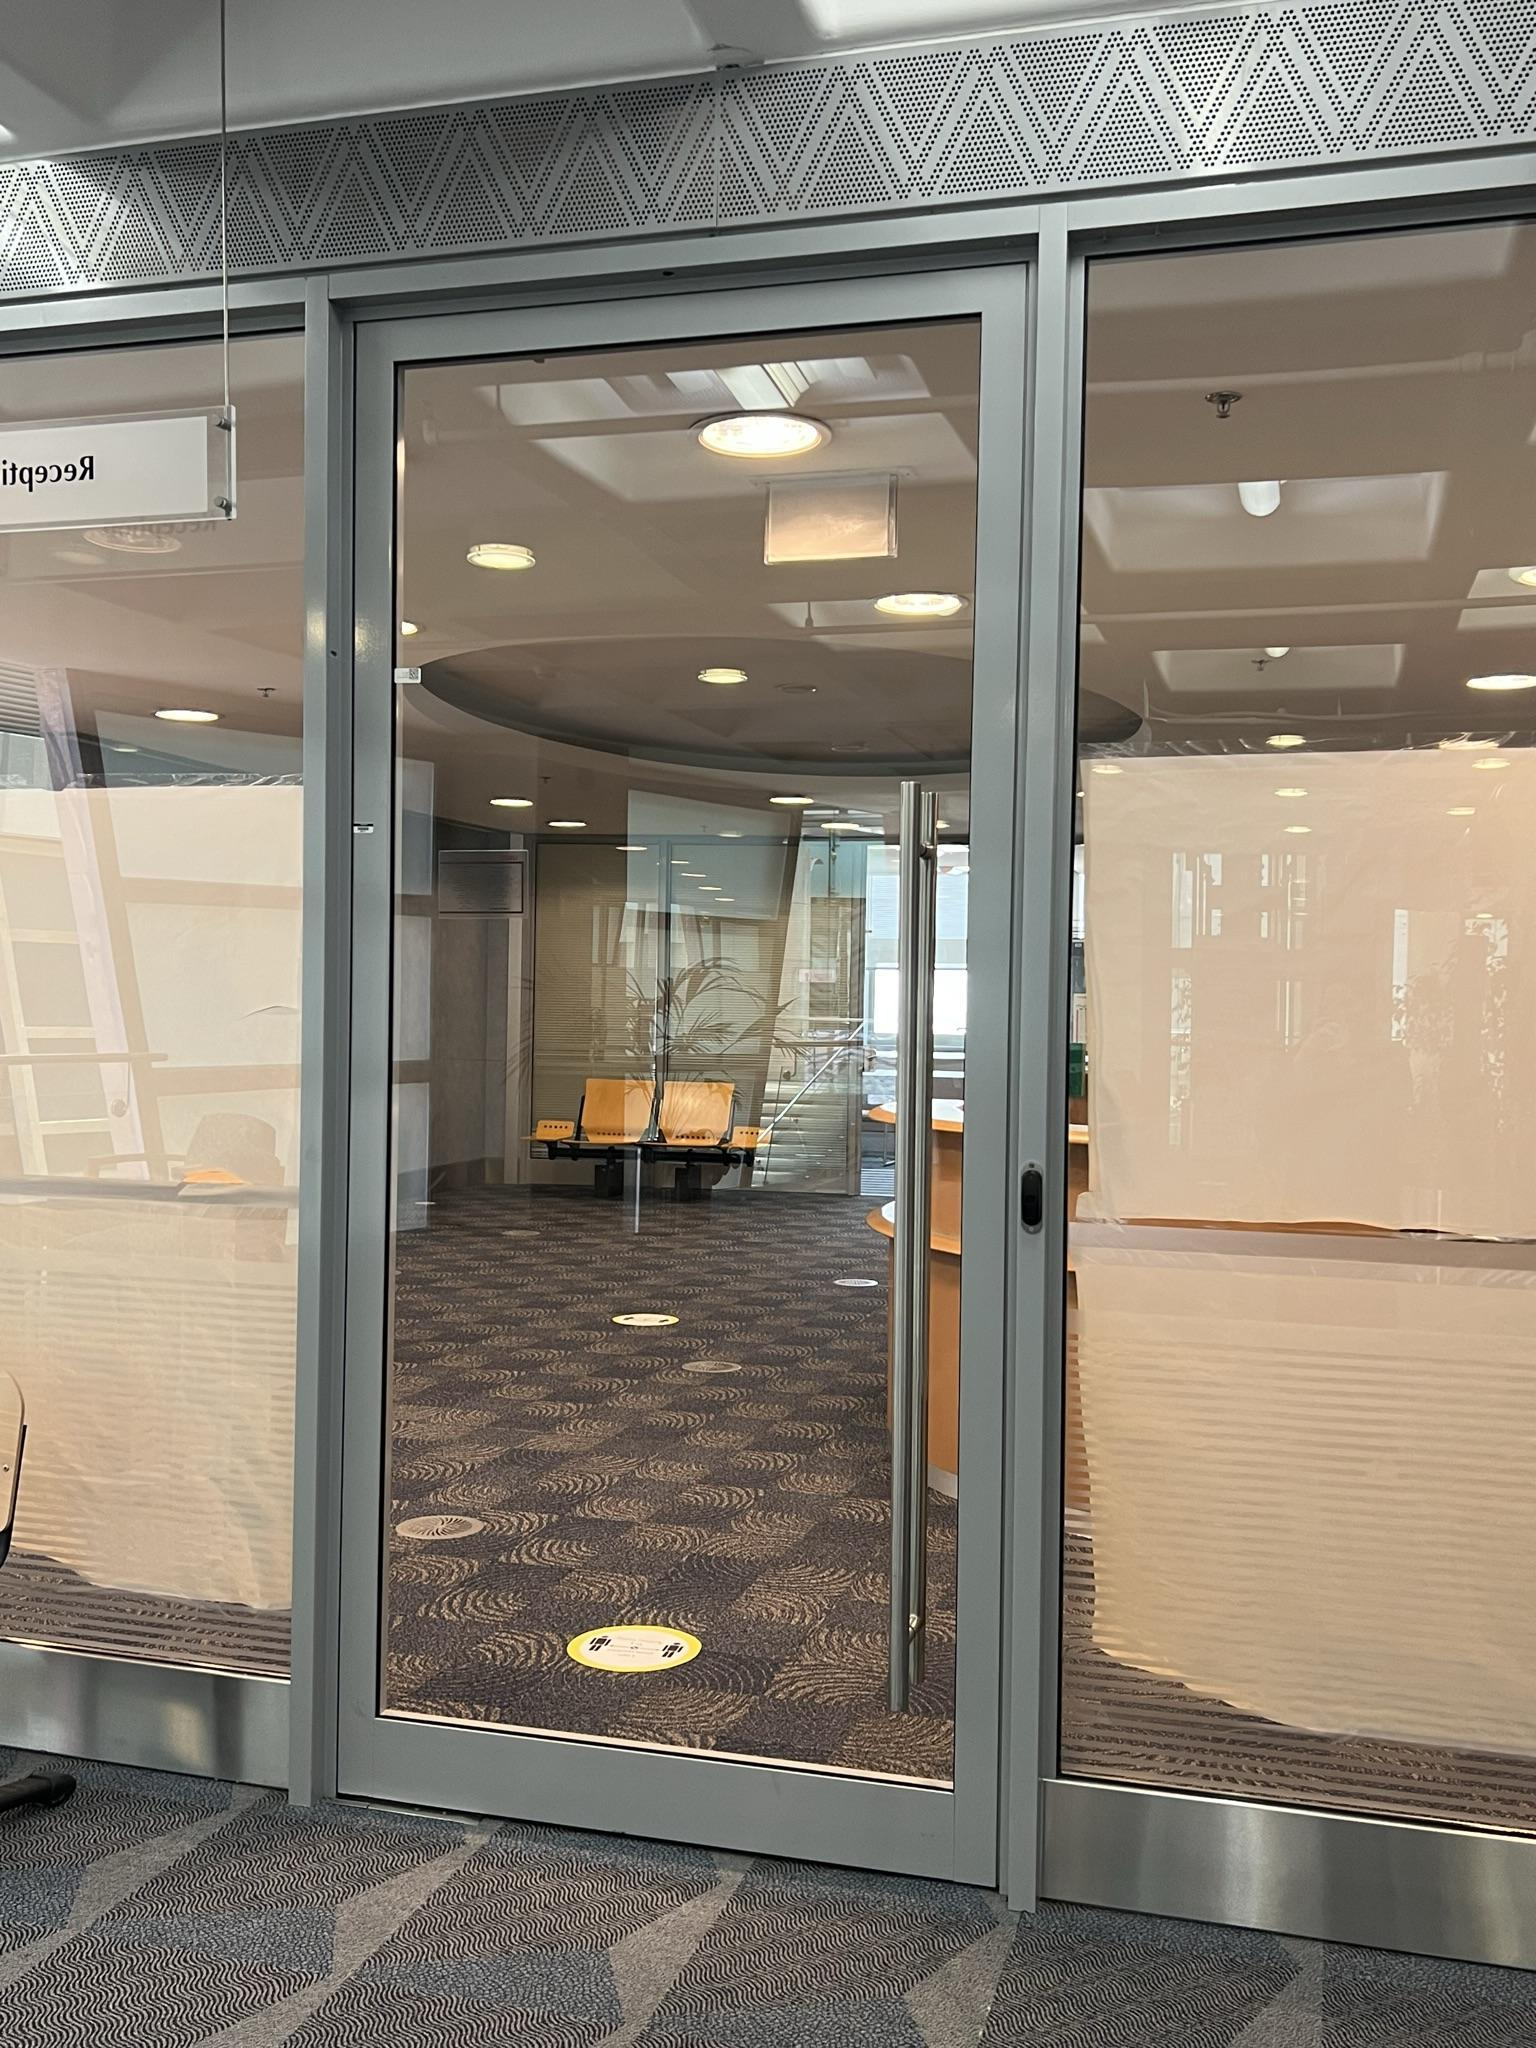door: (336, 240, 1034, 1858)
handle: (874, 771, 939, 1734)
